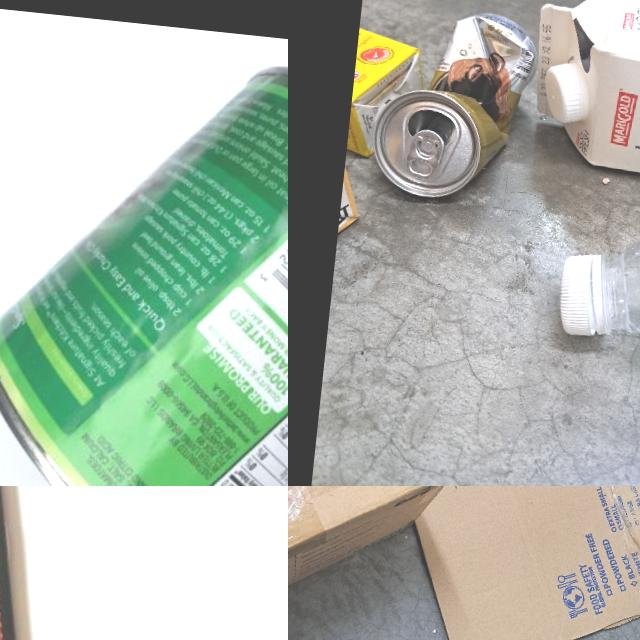aba de lata: (404, 128, 446, 180)
caixinha: (523, 0, 640, 202), (345, 24, 427, 164), (336, 153, 364, 250)
lata: (0, 35, 288, 486), (368, 2, 542, 208)
papel: (0, 486, 92, 640)
papelão: (288, 486, 640, 640), (288, 486, 480, 640)
tampa plástica: (557, 252, 604, 336), (540, 64, 588, 125)
